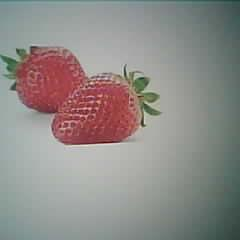straw-ripe: (52, 72, 142, 144), (17, 47, 88, 113)
